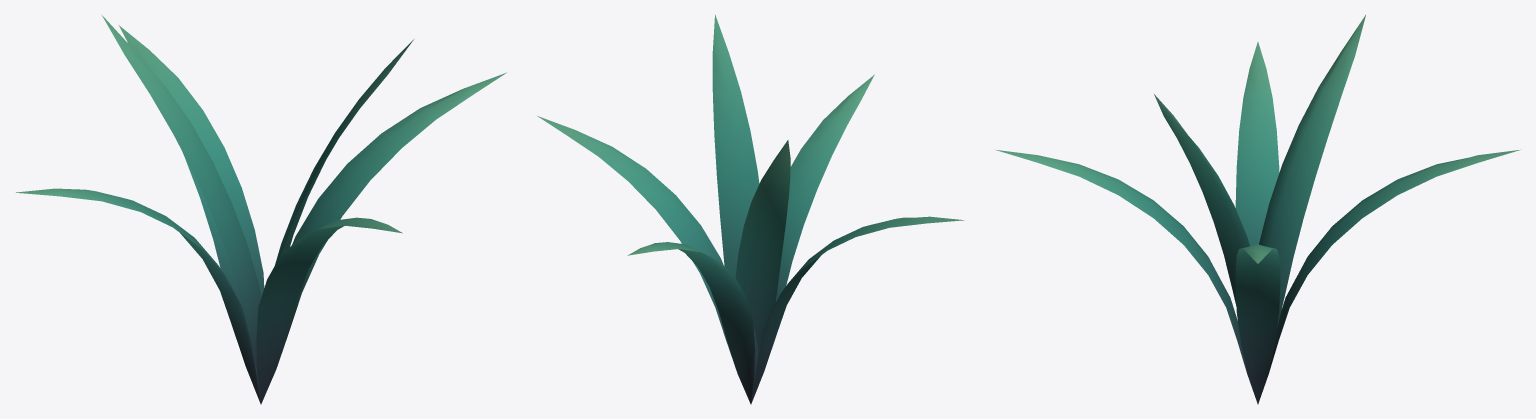
Rendered from S_Grass.fbx.
3 views of the same model, side by side, from view 1: azimuth 30°, elevation 25°; view 2: azimuth 150°, elevation 25°; view 3: azimuth 270°, elevation 25° (orthographic). The views are drawn at different scales.
Visible parts, largest first — view 1: Grass_GEO; view 2: Grass_GEO; view 3: Grass_GEO.
Boxes of the visible parts, x1,y1,x2,y2 form: Grass_GEO: (16,14,506,404); Grass_GEO: (537,14,964,404); Grass_GEO: (995,15,1520,404).
Size of the model in its own units: 11.91 by 8.85 by 11.9.
